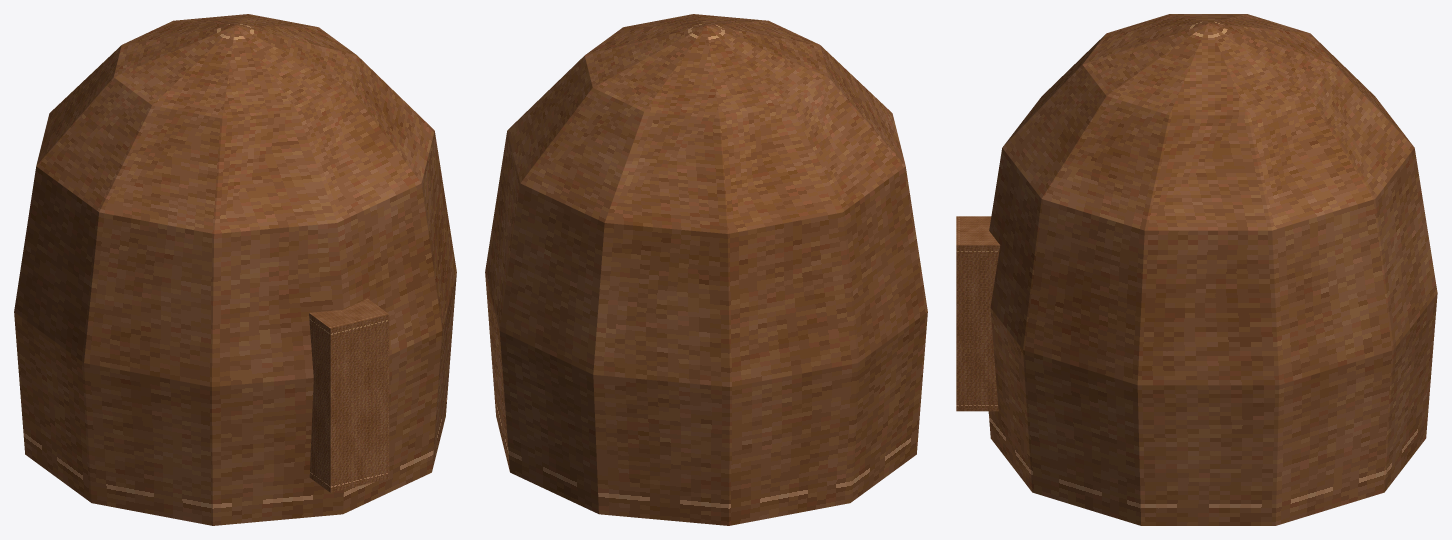
The model's file is capacete_de_couro.glb.
The picture shows the model from 3 angles, left to right: view 1: azimuth 30°, elevation 25°; view 2: azimuth 150°, elevation 25°; view 3: azimuth 270°, elevation 25°; orthographic projection.
Parts seen in each view (by area): view 1: capacete_de_couro; view 2: capacete_de_couro; view 3: capacete_de_couro.
Boxes of the visible parts, x1,y1,x2,y2 form: capacete_de_couro: (14, 14, 456, 525); capacete_de_couro: (485, 14, 927, 525); capacete_de_couro: (956, 14, 1437, 525).
Bounding box in the file's own units: 0.3804 × 0.4 × 0.42.
1 material, 1 textured.
